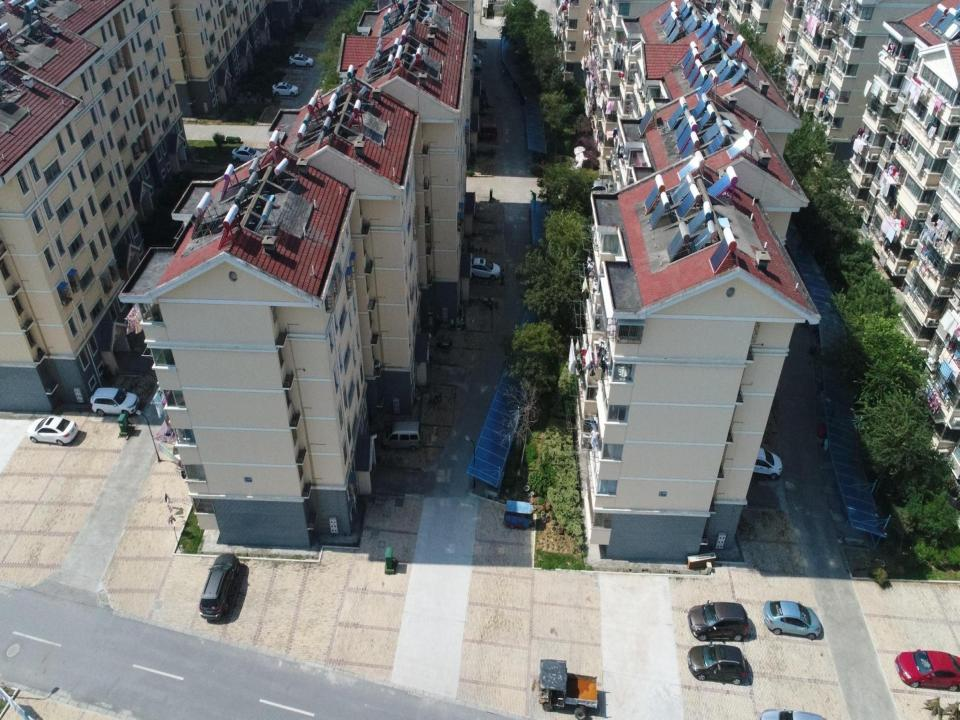car: (894, 646, 959, 694), (198, 553, 240, 621), (688, 601, 748, 641), (688, 644, 745, 686), (763, 601, 821, 640), (27, 416, 78, 446), (90, 387, 140, 416), (751, 448, 783, 480), (470, 257, 500, 280), (271, 81, 299, 96), (289, 52, 314, 68)
truck: (538, 659, 598, 720)
van: (382, 421, 422, 451), (472, 54, 482, 69)
